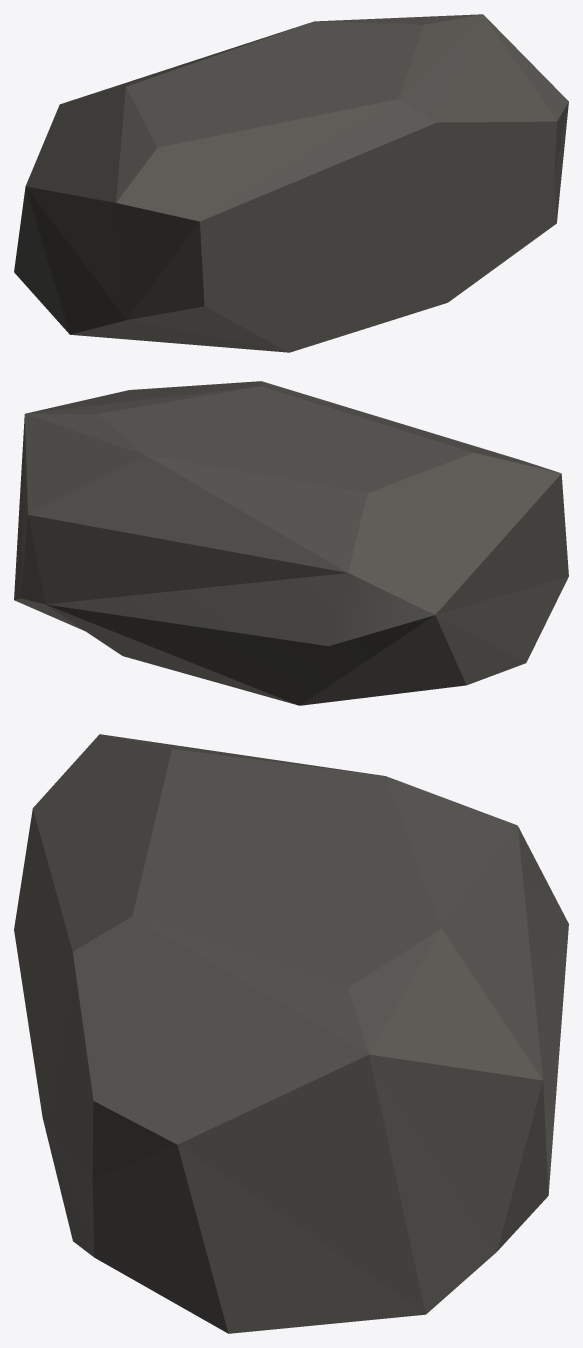
Rendered from env_rock4.gltf.
3 renders of one model, top to bottom at view 1: azimuth 30°, elevation 25°; view 2: azimuth 150°, elevation 25°; view 3: azimuth 270°, elevation 25°, orthographic. The views are drawn at different scales.
Visible parts, largest first — view 1: env_rock4; view 2: env_rock4; view 3: env_rock4.
Boxes of the visible parts, box(x1,y1,x2,y2) form: env_rock4: box(14, 14, 568, 352); env_rock4: box(14, 381, 568, 705); env_rock4: box(14, 734, 568, 1333).
Bounding box in the file's own units: 0.6252 × 0.2811 × 0.4046.
Materials: 1 (1 with a texture image).
